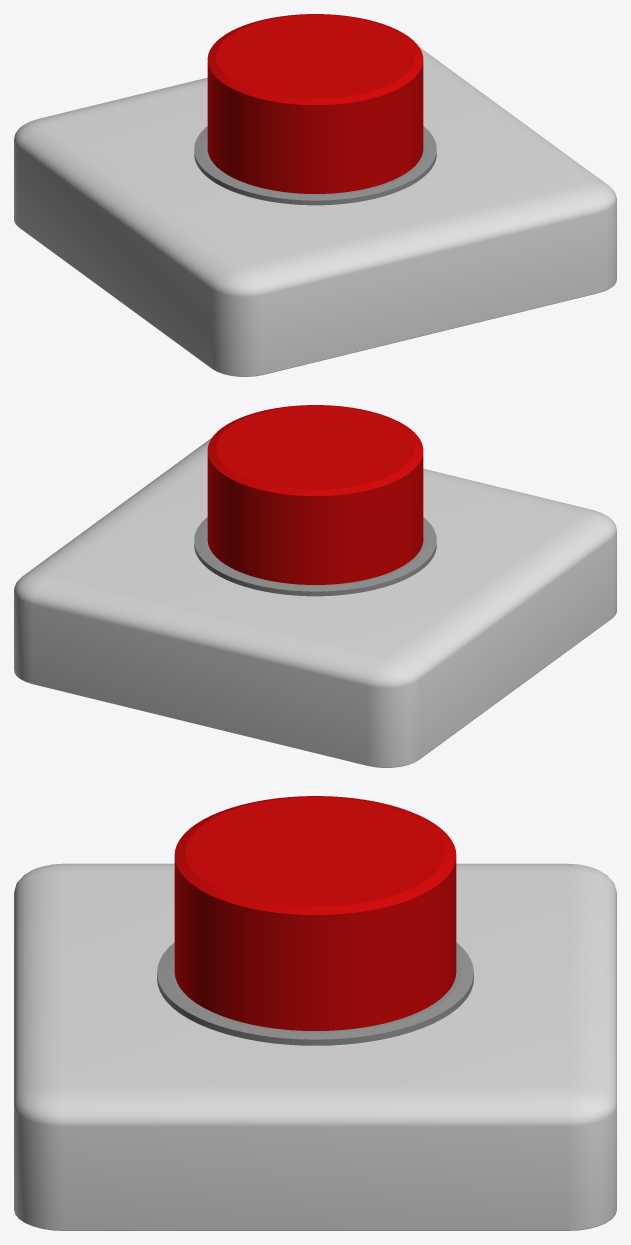
Rendered from Button.fbx.
3 renders of one model, top to bottom at view 1: azimuth 30°, elevation 25°; view 2: azimuth 150°, elevation 25°; view 3: azimuth 270°, elevation 25°, orthographic. The views are drawn at different scales.
Visible parts, largest first — view 1: Cube.001, Cylinder, Cylinder.001; view 2: Cube.001, Cylinder, Cylinder.001; view 3: Cube.001, Cylinder, Cylinder.001.
Part boxes in pixels (left/top/right/bottom): Cube.001: left=14, top=47, right=616, bottom=376; Cylinder: left=207, top=14, right=423, bottom=193; Cylinder.001: left=194, top=126, right=436, bottom=205; Cube.001: left=14, top=438, right=616, bottom=767; Cylinder: left=207, top=405, right=423, bottom=584; Cylinder.001: left=194, top=517, right=436, bottom=596; Cube.001: left=14, top=863, right=616, bottom=1230; Cylinder: left=174, top=796, right=456, bottom=1030; Cylinder.001: left=157, top=942, right=473, bottom=1045.
Bounding box in the file's own units: 2 × 0.9211 × 2.
